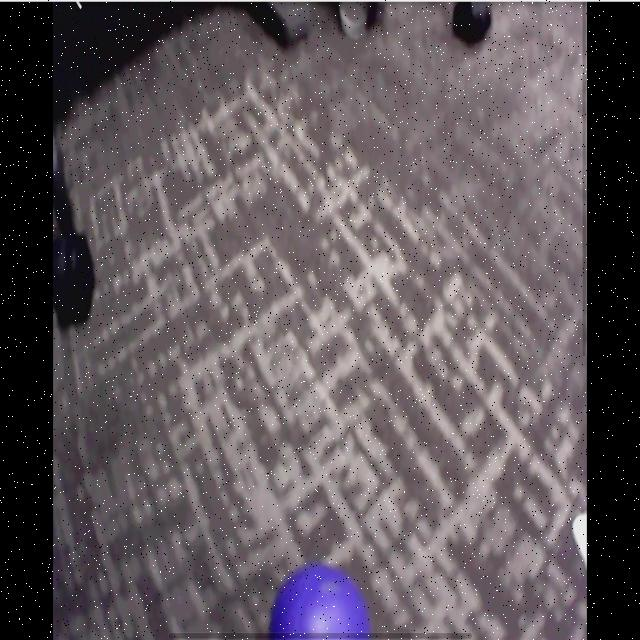ball: (269, 567, 374, 640)
